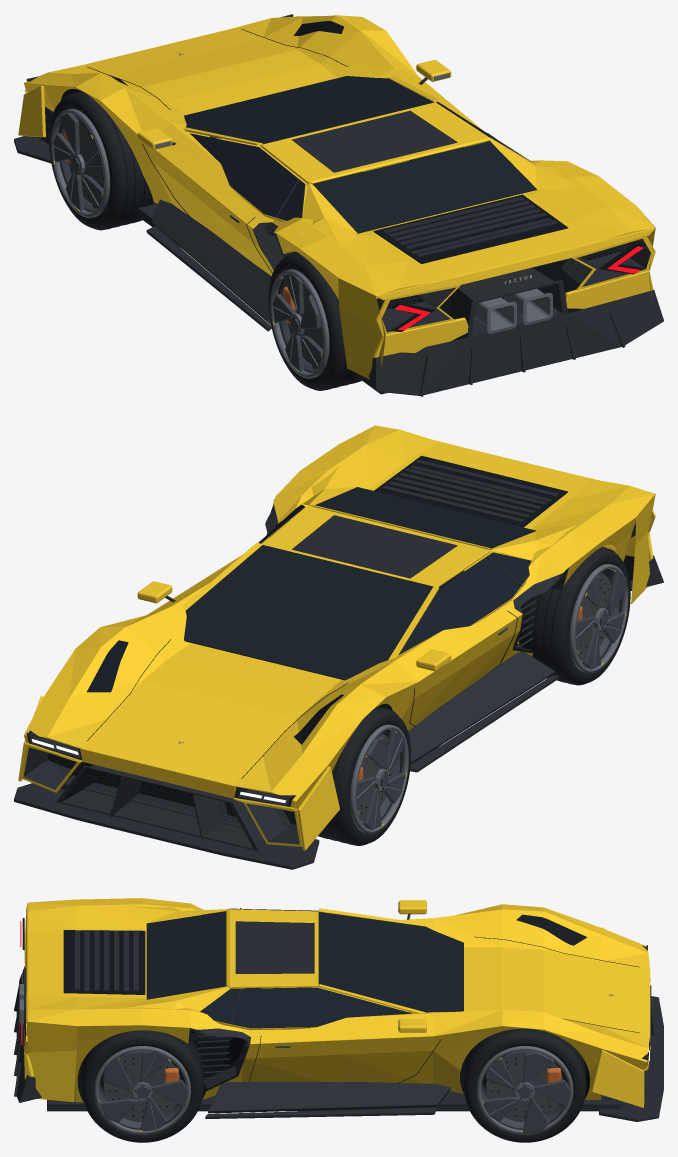
File: Vector_V04.glb
3 views of the same model, one above another, from view 1: azimuth 30°, elevation 25°; view 2: azimuth 150°, elevation 25°; view 3: azimuth 270°, elevation 25° (orthographic). The views are drawn at different scales.
Parts seen in each view (by area): view 1: V04 primary body.001, Integrated carbon diffuser shell.001, Rear engine glazing.001, V04 windscreen.001, Inset roof carbon.001, Front tyre.002, Sculpted carbon rocker.002, Side glazing.002, V04 painted roof.001, Engine hatch recessed tray.001, Rear tyre.002, Rear quarter wrap.002 (+28 smaller); view 2: V04 primary body.001, V04 windscreen.001, Inset roof carbon.001, Rear engine glazing.001, Sculpted carbon rocker.002, Rear tyre.002, Side glazing.002, Swept carbon front splitter.001, Central wedge mouth deep duct walls.001, V04 painted roof.001, Front tyre.002, Engine hatch recessed tray.001 (+24 smaller); view 3: V04 primary body.001, V04 windscreen.001, Sculpted carbon rocker.003, Rear engine glazing.001, Side glazing.003, Front tyre.003, Rear tyre.003, Inset roof carbon.001, Rear quarter wrap.003, Engine hatch recessed tray.001, V04 painted roof.001, Swept carbon front splitter.001 (+32 smaller).
Part boxes in pixels (x1,y1,x2,y2): V04 primary body.001: (24,15,654,340); Integrated carbon diffuser shell.001: (368,290,663,395); Rear engine glazing.001: (313,141,536,233); V04 windscreen.001: (184,76,433,144); Inset roof carbon.001: (292,110,457,172); Front tyre.002: (49,91,154,230); Sculpted carbon rocker.002: (152,199,271,324); Side glazing.002: (190,133,305,220); V04 painted roof.001: (260,102,489,183); Engine hatch recessed tray.001: (373,194,567,263); Rear tyre.002: (269,252,361,390); Rear quarter wrap.002: (338,278,385,379); V04 primary body.001: (24,425,654,811); V04 windscreen.001: (184,545,433,680); Inset roof carbon.001: (292,515,457,578); Rear engine glazing.001: (313,487,536,549); Sculpted carbon rocker.002: (408,651,555,763); Rear tyre.002: (518,547,629,685); Side glazing.002: (399,552,531,654); Swept carbon front splitter.001: (14,783,319,869); Central wedge mouth deep duct walls.001: (62,764,262,848); V04 painted roof.001: (262,505,490,586); Front tyre.002: (318,706,410,845); Engine hatch recessed tray.001: (374,455,567,527); V04 primary body.001: (28,898,650,1102); V04 windscreen.001: (318,912,463,1012); Sculpted carbon rocker.003: (208,1082,450,1113); Rear engine glazing.001: (146,911,226,999); Side glazing.003: (200,987,412,1028); Front tyre.003: (464,1028,586,1142); Rear tyre.003: (81,1030,203,1142); Inset roof carbon.001: (235,921,314,973); Rear quarter wrap.003: (24,1021,76,1102); Engine hatch recessed tray.001: (63,930,145,994); V04 painted roof.001: (229,909,318,988); Swept carbon front splitter.001: (599,996,663,1121).
Bounding box in the file's own units: 2.46 × 1.17 × 5.1.
